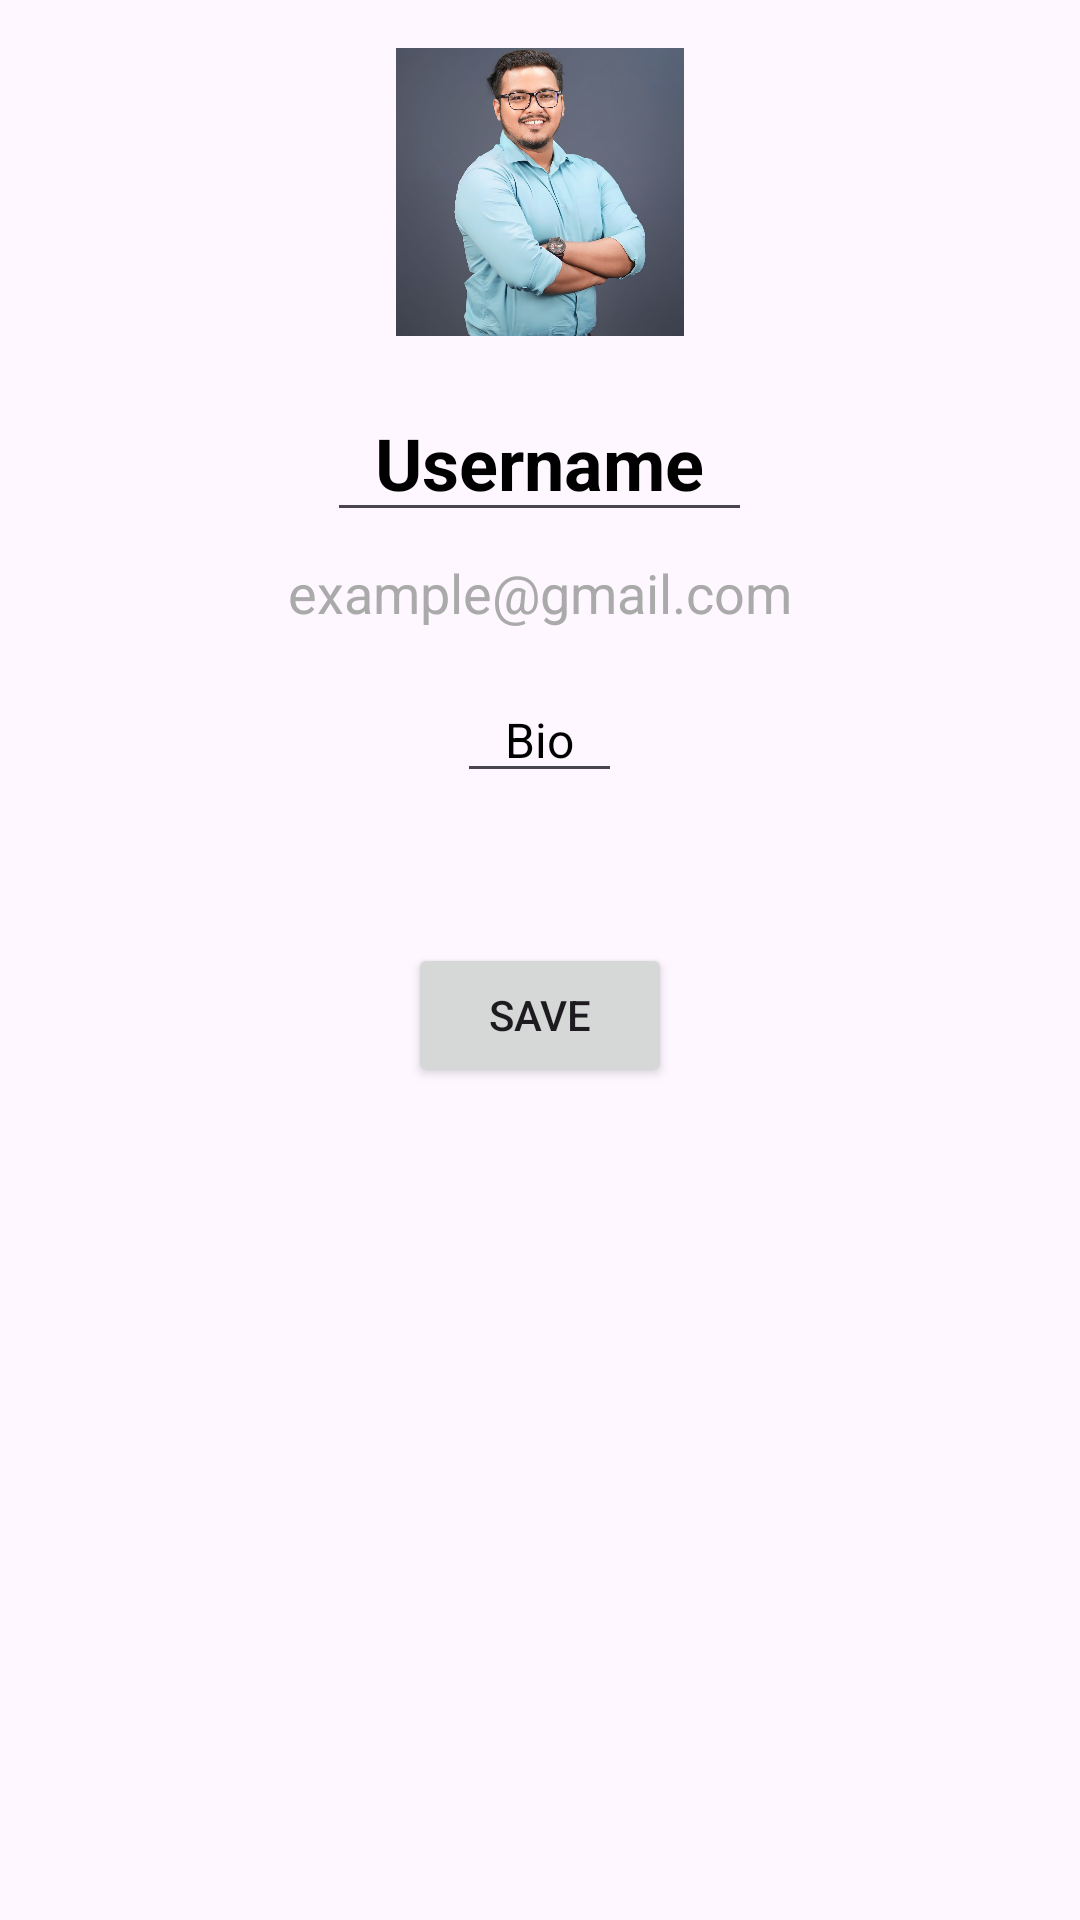

Where to tap for icons on this 1080 × 1920 app screen, as (x,y):
Profile Image: (540,192)
